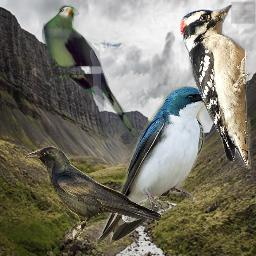Crow: (23, 146, 163, 240)
Cuckoo: (42, 5, 146, 140)
Swallow: (96, 86, 215, 246)
Woodpecker: (179, 5, 252, 169)
